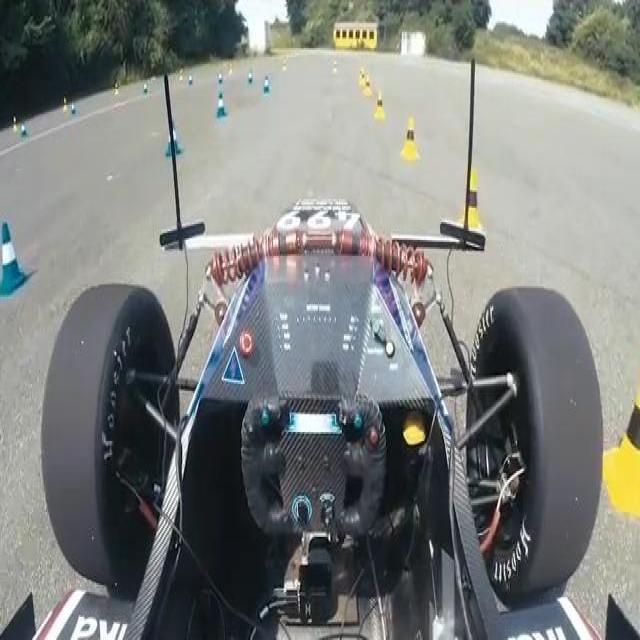blue_cone: (0, 199, 38, 313), (157, 110, 186, 164), (210, 87, 236, 142)
yellow_cone: (601, 345, 640, 523), (450, 162, 495, 238), (402, 107, 431, 179), (369, 87, 387, 132)
